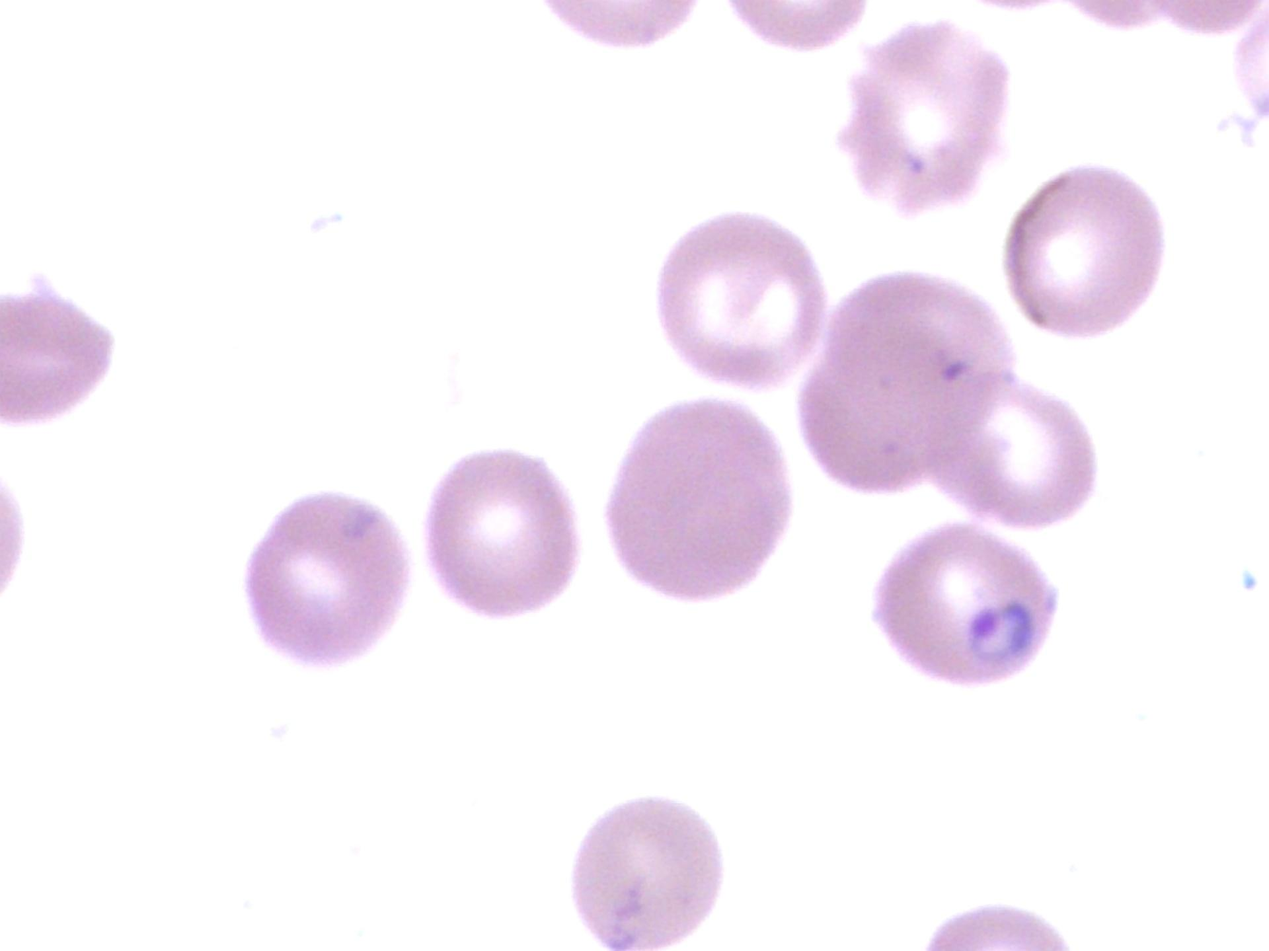Infected: (873, 518, 1059, 678)
Uninfected: (604, 399, 795, 597), (820, 265, 1010, 443), (842, 25, 1008, 223), (242, 494, 411, 672), (1005, 162, 1166, 345), (421, 446, 580, 628), (661, 212, 828, 383), (914, 366, 1100, 518), (795, 340, 972, 489), (575, 798, 723, 949), (0, 298, 118, 436)
